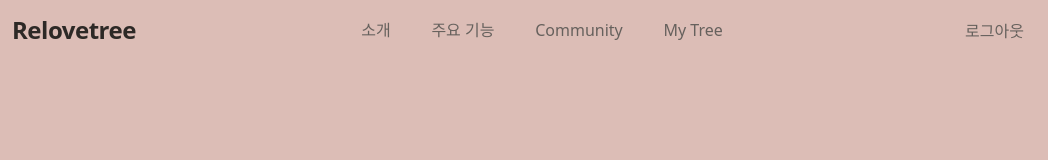
SiteHeader auth action › shows one bounded failure status and permits retry
The width and height of the screenshot is (1048, 160).
Click the button "로그아웃" at (995,30), box [953,8,1036,52]
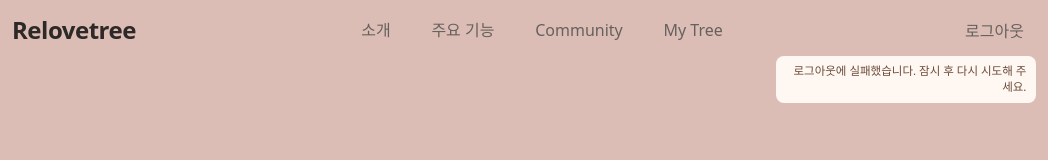
Check: the message does not show "auth/raw-secret-code", box [776,56,1036,103]
Check: the number of messages is 1, box [776,56,1036,103]
Check: the message shows "로그아웃에 실패했습니다", box [794,63,1026,94]
